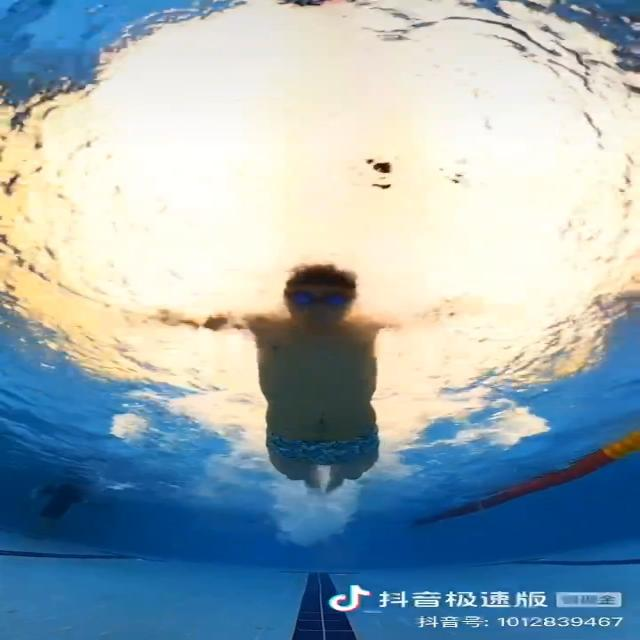Swimming: (215, 268, 435, 497)
